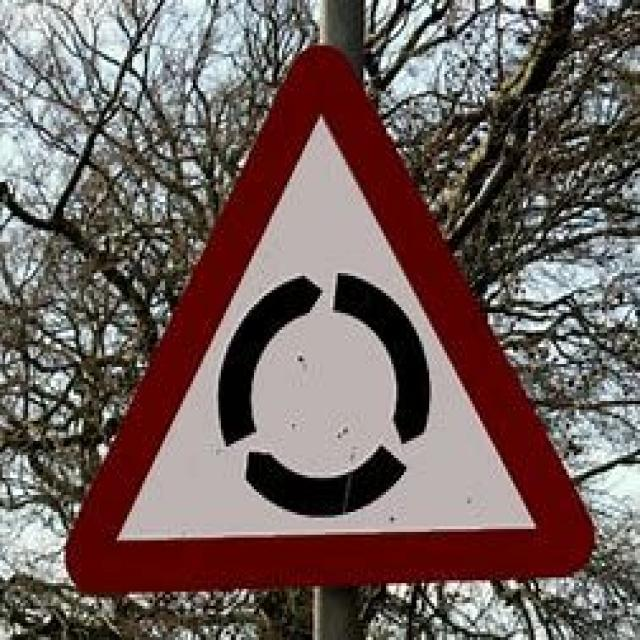roundabout: (67, 38, 598, 591)
